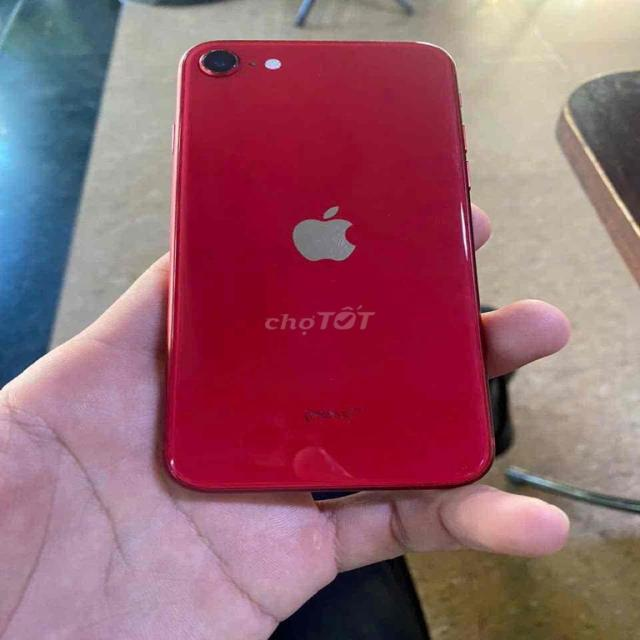gen_7_8: (157, 28, 496, 510)
